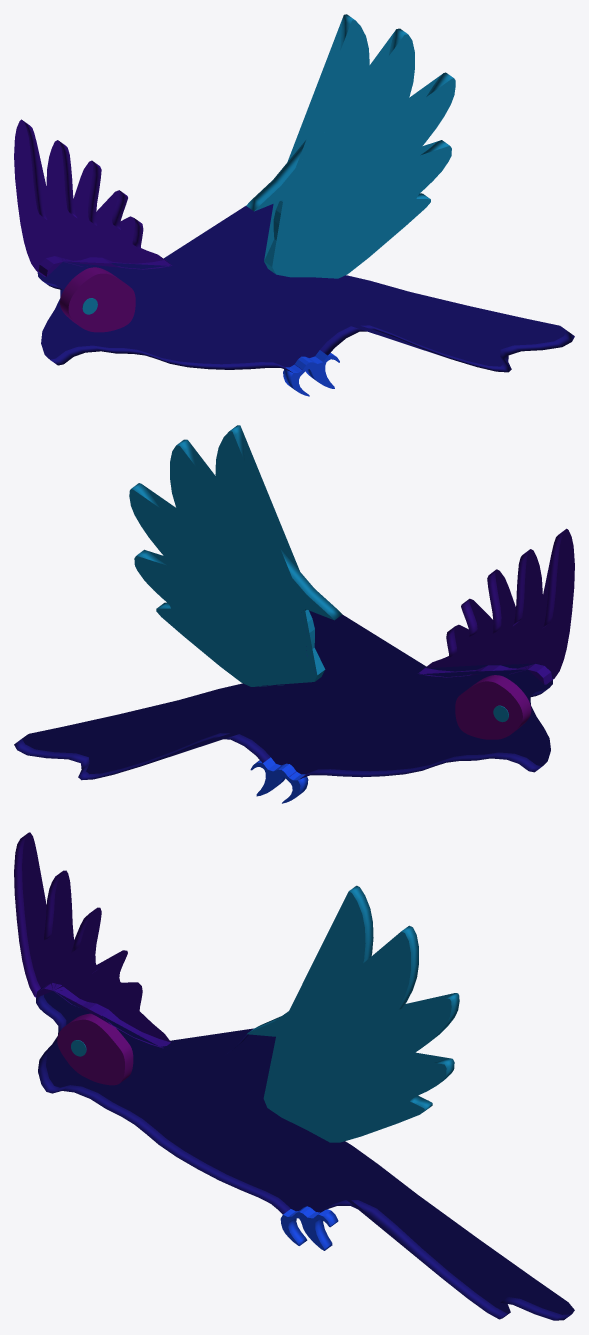
Rendered from Bird.obj.
The picture shows the model from 3 angles, top to bottom: view 1: azimuth 30°, elevation 25°; view 2: azimuth 150°, elevation 25°; view 3: azimuth 330°, elevation 25°; orthographic projection.
Visible parts, largest first — view 1: eye; view 2: eye; view 3: eye.
Part boxes in pixels (bbox=[...]): eye: bbox=[14, 14, 574, 396]; eye: bbox=[14, 425, 574, 803]; eye: bbox=[14, 832, 574, 1320].
Bounding box in the file's own units: 1.89 × 1.27 × 0.0701.
